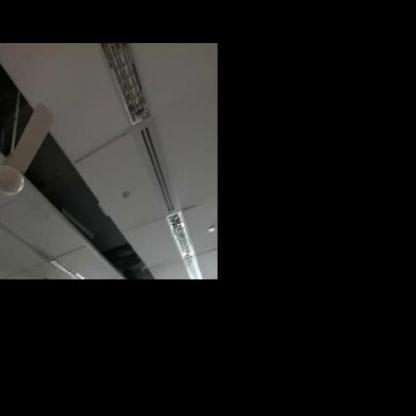light_off: (91, 43, 162, 131), (162, 197, 205, 279)
